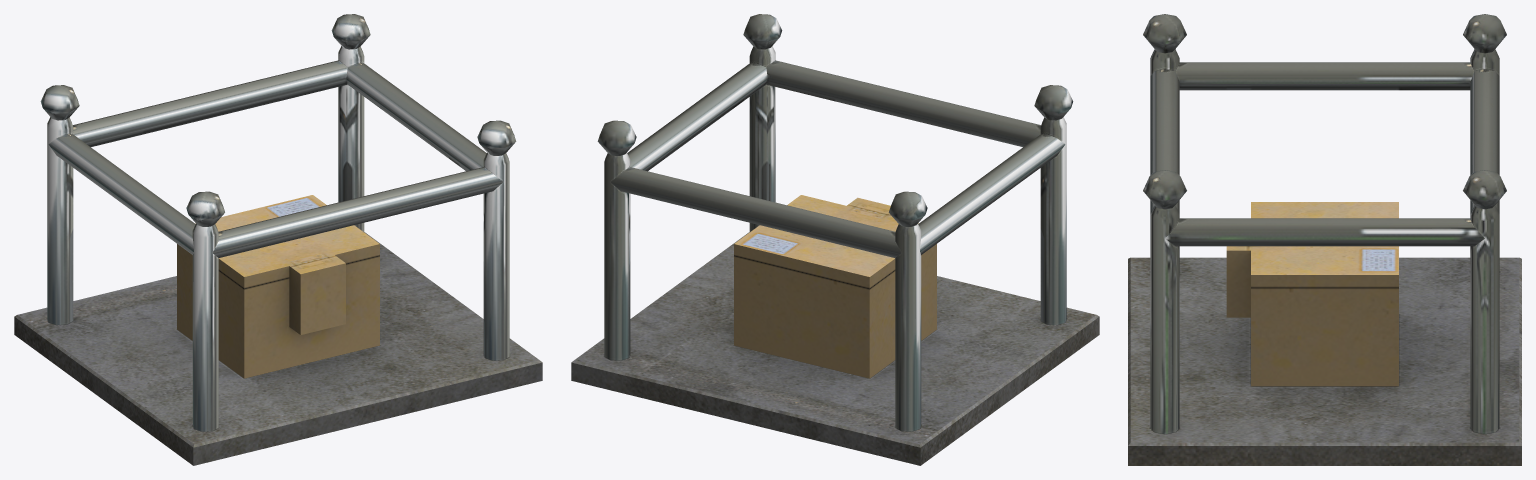
The model's file is WaterLevel.gltf.
3 renders of one model, left to right at view 1: azimuth 30°, elevation 25°; view 2: azimuth 150°, elevation 25°; view 3: azimuth 270°, elevation 25°, orthographic. The views are drawn at different scales.
Visible parts, largest first — view 1: WaterLevel; view 2: WaterLevel; view 3: WaterLevel.
Part boxes in pixels (bbox=[...]): WaterLevel: bbox=[14, 14, 542, 465]; WaterLevel: bbox=[571, 14, 1099, 465]; WaterLevel: bbox=[1128, 14, 1521, 465].
Size of the model in its own units: 18 by 12.54 by 16.
Materials: 1 (1 with a texture image).
